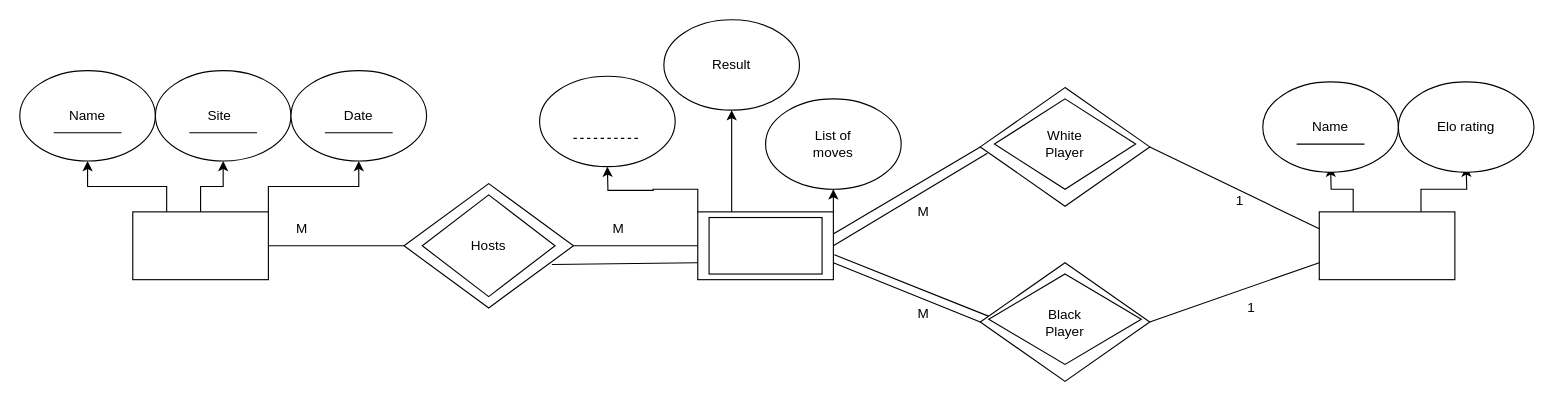
Some shapes in this 1554 by 401 pixel diagram are drawn without their labels. The centre of each missing label's shape, as x and y in pixels:
"Events" goes at pixel 200 245.
"Games" goes at pixel 765 245.
"Players" goes at pixel 1386 245.
"Round" goes at pixel 606 121.
